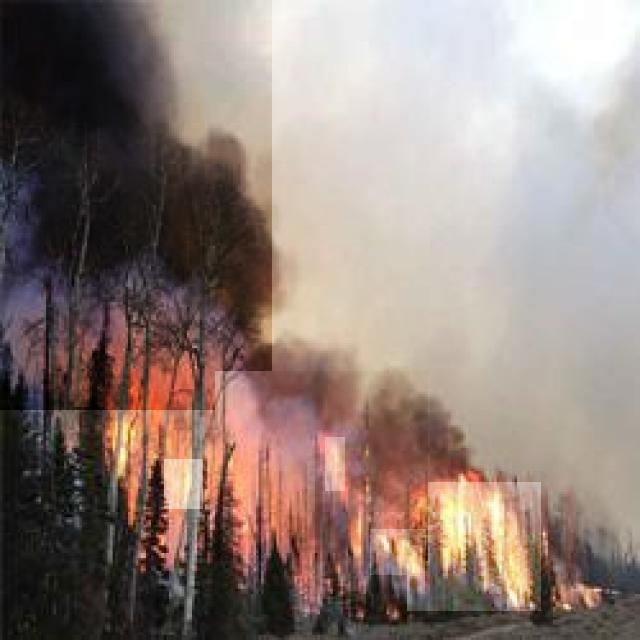Fire: (407, 482, 541, 611), (102, 404, 142, 487), (370, 529, 426, 575), (164, 460, 203, 510), (326, 437, 346, 491)
Smoke: (0, 0, 272, 410), (215, 371, 428, 561)
